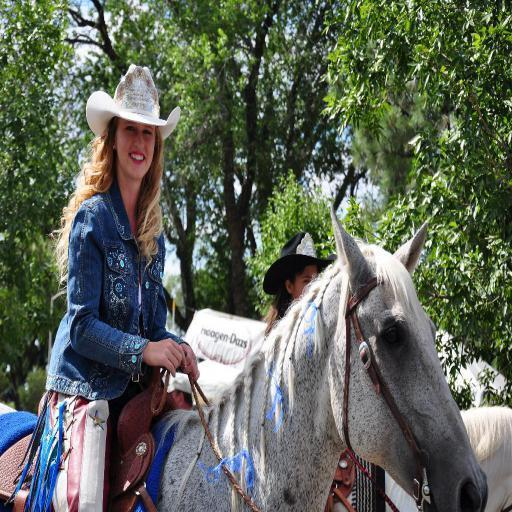horse: (0, 202, 488, 512), (326, 404, 512, 512)
